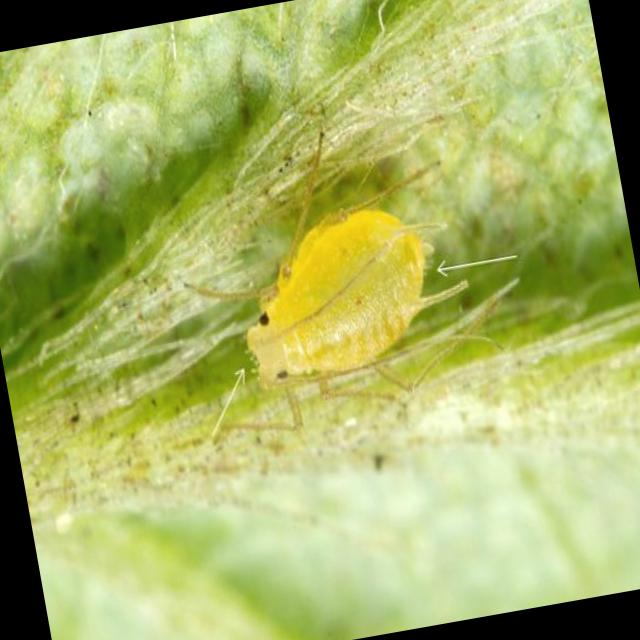Aphid: (150, 119, 560, 496)
